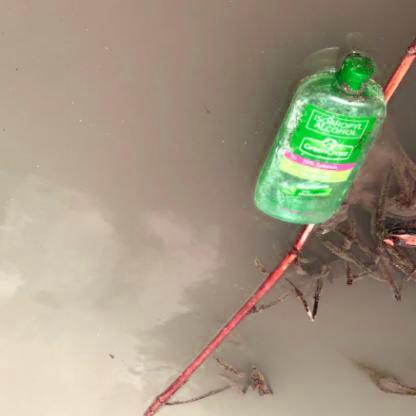Glass: (252, 51, 390, 235)
